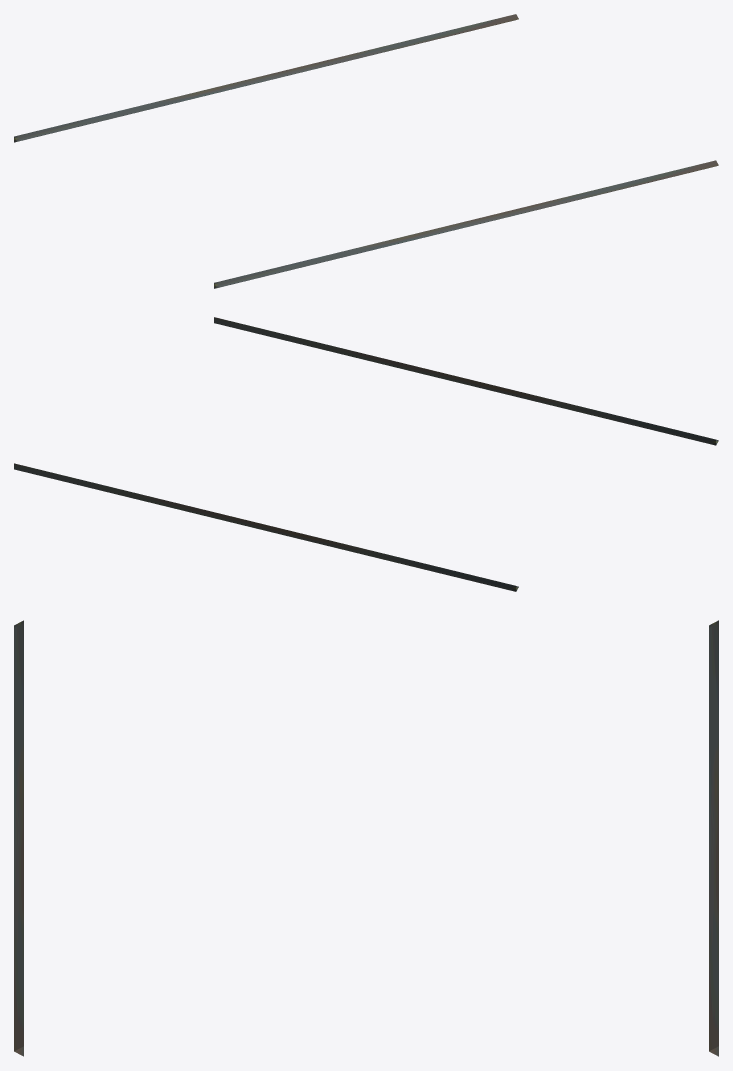
The model's file is Kran_LagerhalleSchienen_1011.glb.
3 views of the same model, one above another, from view 1: azimuth 30°, elevation 25°; view 2: azimuth 150°, elevation 25°; view 3: azimuth 270°, elevation 25° (orthographic). The views are drawn at different scales.
Visible parts, largest first — view 1: pCylinderShape2, pCylinderShape3; view 2: pCylinderShape2, pCylinderShape3; view 3: pCylinderShape3, pCylinderShape2.
Part boxes in pixels (x1,y1,x2,y2): pCylinderShape2: (214,160,718,288); pCylinderShape3: (14,14,518,142); pCylinderShape2: (214,317,718,445); pCylinderShape3: (14,463,518,591); pCylinderShape3: (709,620,718,1056); pCylinderShape2: (14,620,23,1056).
Bounding box in the file's own units: 3.49 × 0.0405 × 2.44.
2 materials, 2 textured.
